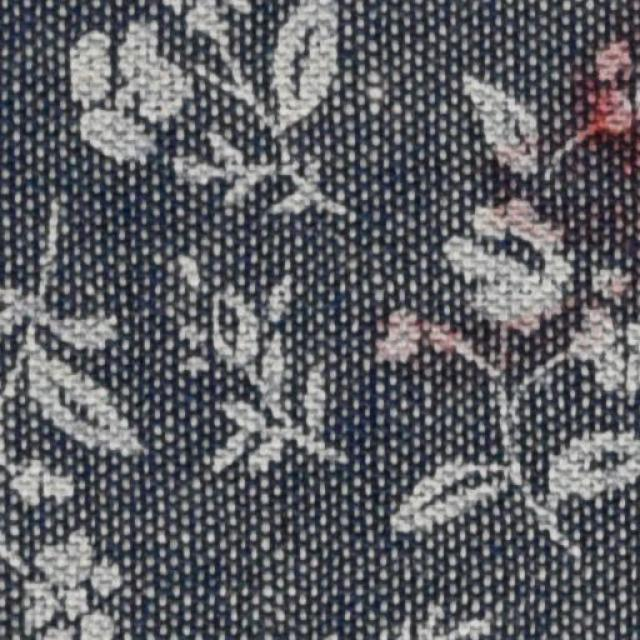Stain: (572, 45, 639, 178)
